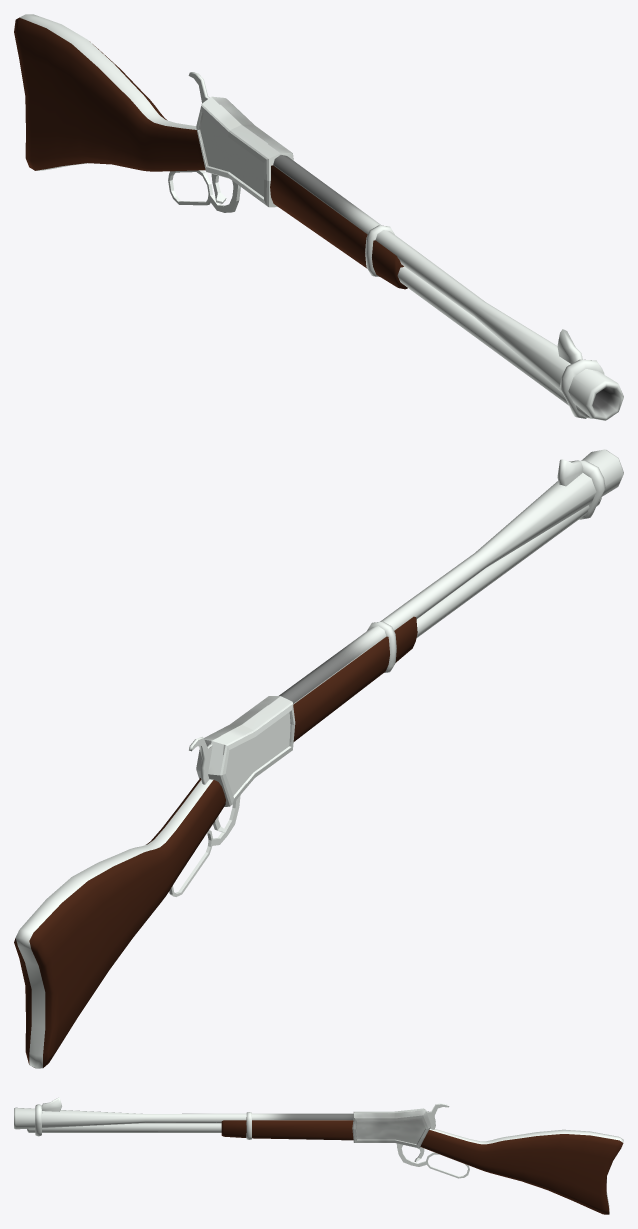
File: Arma.fbx
3 renders of one model, top to bottom at view 1: azimuth 30°, elevation 25°; view 2: azimuth 150°, elevation 25°; view 3: azimuth 270°, elevation 25°, orthographic. The views are drawn at different scales.
Parts seen in each view (by area): view 1: Plane; view 2: Plane; view 3: Plane.
Part boxes in pixels (x1,y1,x2,y2): Plane: (14,14,623,420); Plane: (14,449,623,1068); Plane: (14,1097,623,1214).
Bounding box in the file's own units: 93.03 × 468 × 2217.
1 material, 1 textured.
